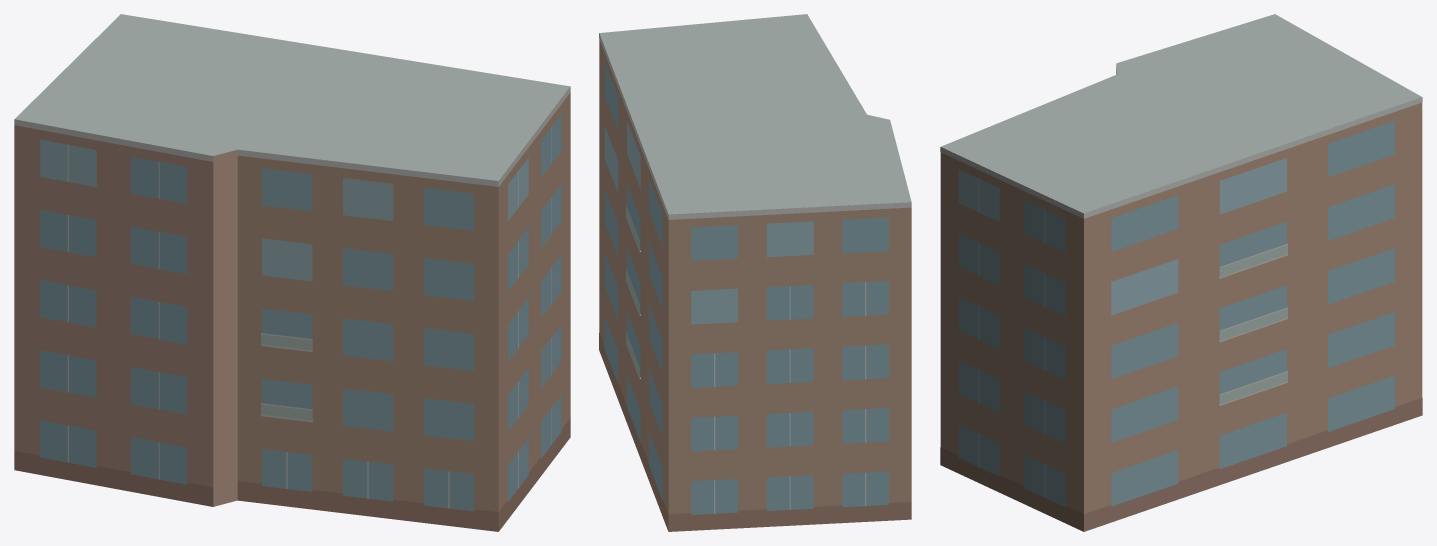
Rendered from survey-upis-32717895.glb.
The picture shows the model from 3 angles, left to right: view 1: azimuth 30°, elevation 25°; view 2: azimuth 150°, elevation 25°; view 3: azimuth 270°, elevation 25°; orthographic projection. The views are drawn at different scales.
Visible parts, largest first — view 1: survey-upis-32717895.tmp; view 2: survey-upis-32717895.tmp; view 3: survey-upis-32717895.tmp.
Part boxes in pixels (x1=…): survey-upis-32717895.tmp: x1=14, y1=14, x2=570, y2=531; survey-upis-32717895.tmp: x1=599, y1=14, x2=911, y2=531; survey-upis-32717895.tmp: x1=940, y1=14, x2=1422, y2=531.
Size of the model in its own units: 19.5 by 14.5 by 19.9.
